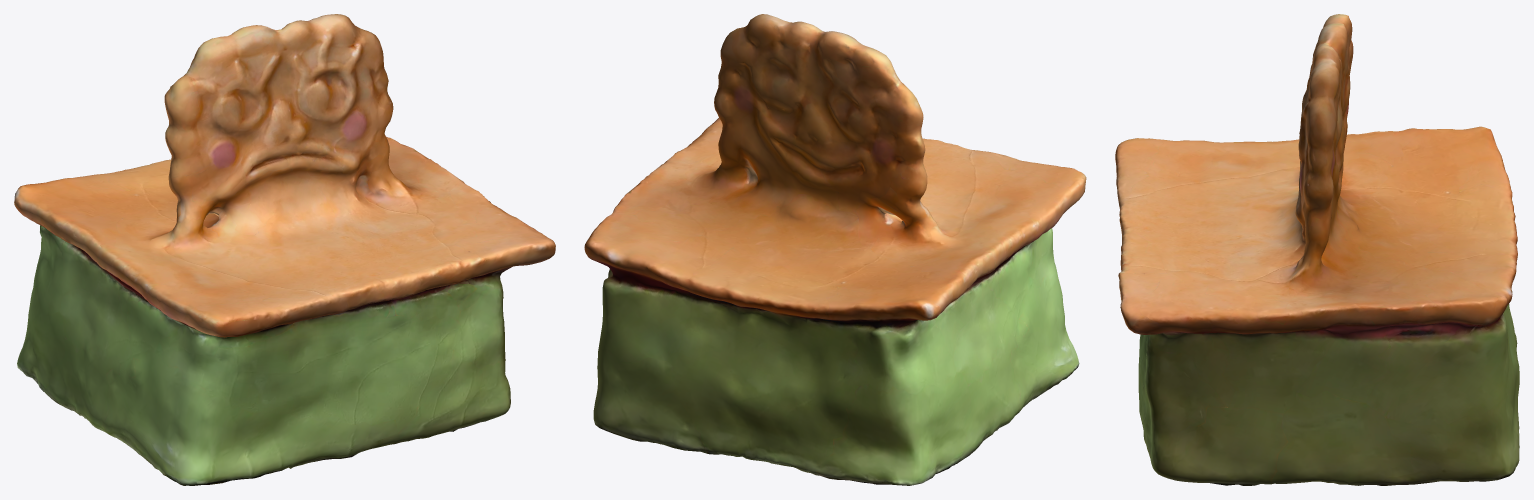
The model's file is trinket-box-naranja.glb.
The picture shows the model from 3 angles, left to right: view 1: azimuth 30°, elevation 25°; view 2: azimuth 150°, elevation 25°; view 3: azimuth 270°, elevation 25°; orthographic projection.
Parts seen in each view (by area): view 1: submesh; view 2: submesh; view 3: submesh.
Boxes of the visible parts, <box> form: submesh: <box>14,14,555,485</box>; submesh: <box>584,14,1086,485</box>; submesh: <box>1115,14,1519,485</box>.
Bounding box in the file's own units: 0.1265 × 0.1223 × 0.1184.
1 material, 1 textured.
